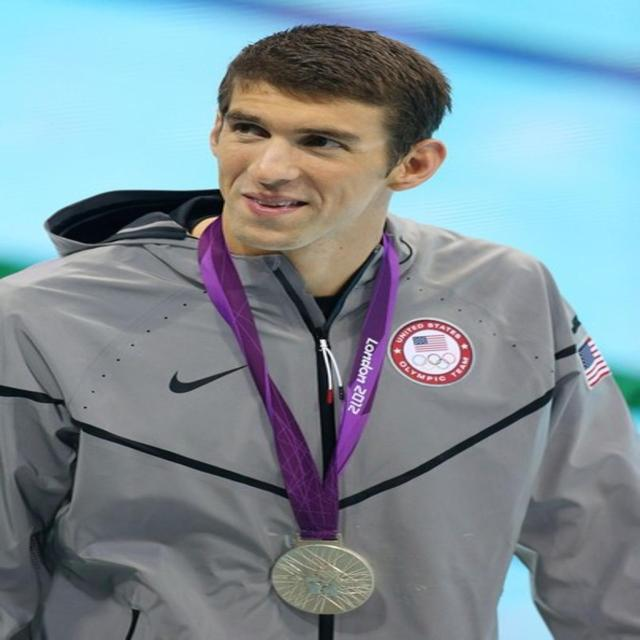Face: (189, 89, 412, 254)
